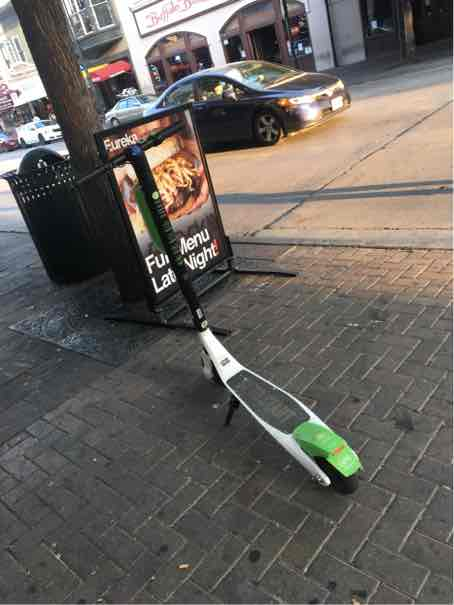scooter: (61, 95, 368, 485)
